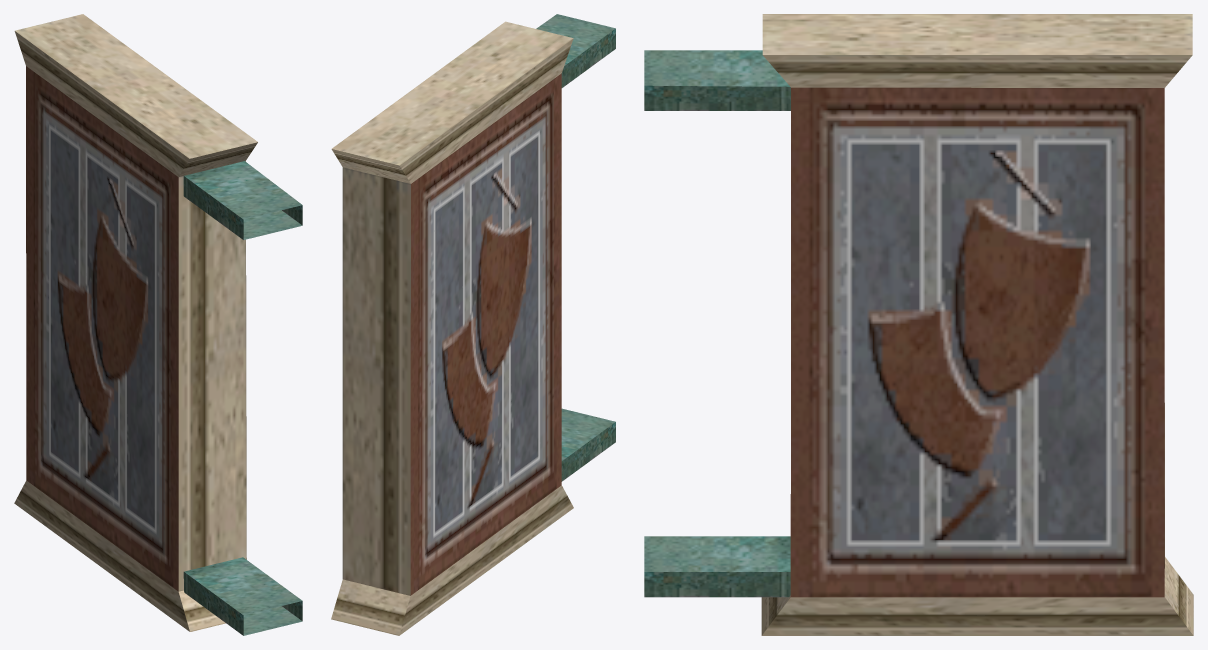
Rendered from thm_sign_nboo_hanging_l1.fbx.
3 renders of one model, left to right at view 1: azimuth 30°, elevation 25°; view 2: azimuth 150°, elevation 25°; view 3: azimuth 270°, elevation 25°, orthographic. The views are drawn at different scales.
Visible parts, largest first — view 1: mesh_node; view 2: mesh_node; view 3: mesh_node.
Boxes of the visible parts, left/top/right/bottom form: mesh_node: left=14, top=14, right=302, bottom=635; mesh_node: left=331, top=14, right=615, bottom=635; mesh_node: left=644, top=14, right=1193, bottom=635.
Size of the model in its own units: 0.26 by 1.71 by 1.47.
